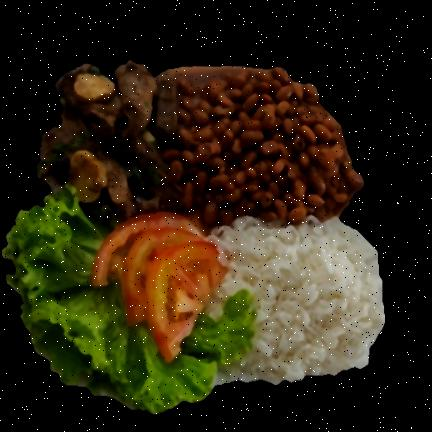beans: (174, 67, 361, 232)
meat: (39, 61, 182, 226)
rice: (204, 216, 384, 383)
salad: (3, 189, 257, 415)
tomato: (92, 213, 238, 365)
